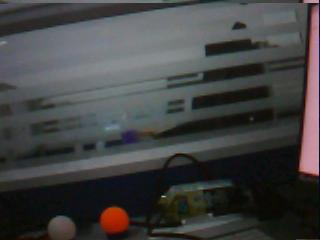oball: (100, 206, 129, 233)
